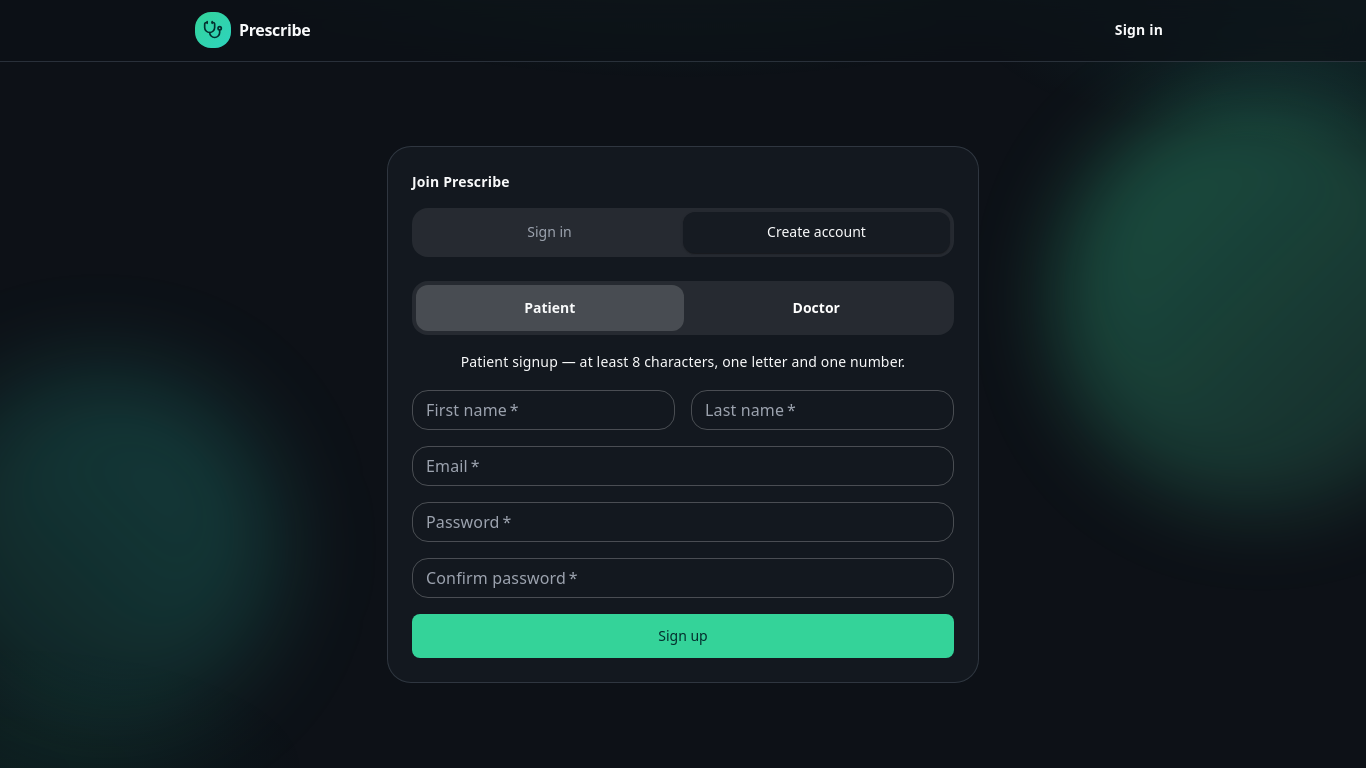
Test case: AuthPage › surfaces backend detail on signup failure
Type "X" into the field with id "landing-signup-first-name".
click(544, 410); type("X")  # box [412,390,675,430]
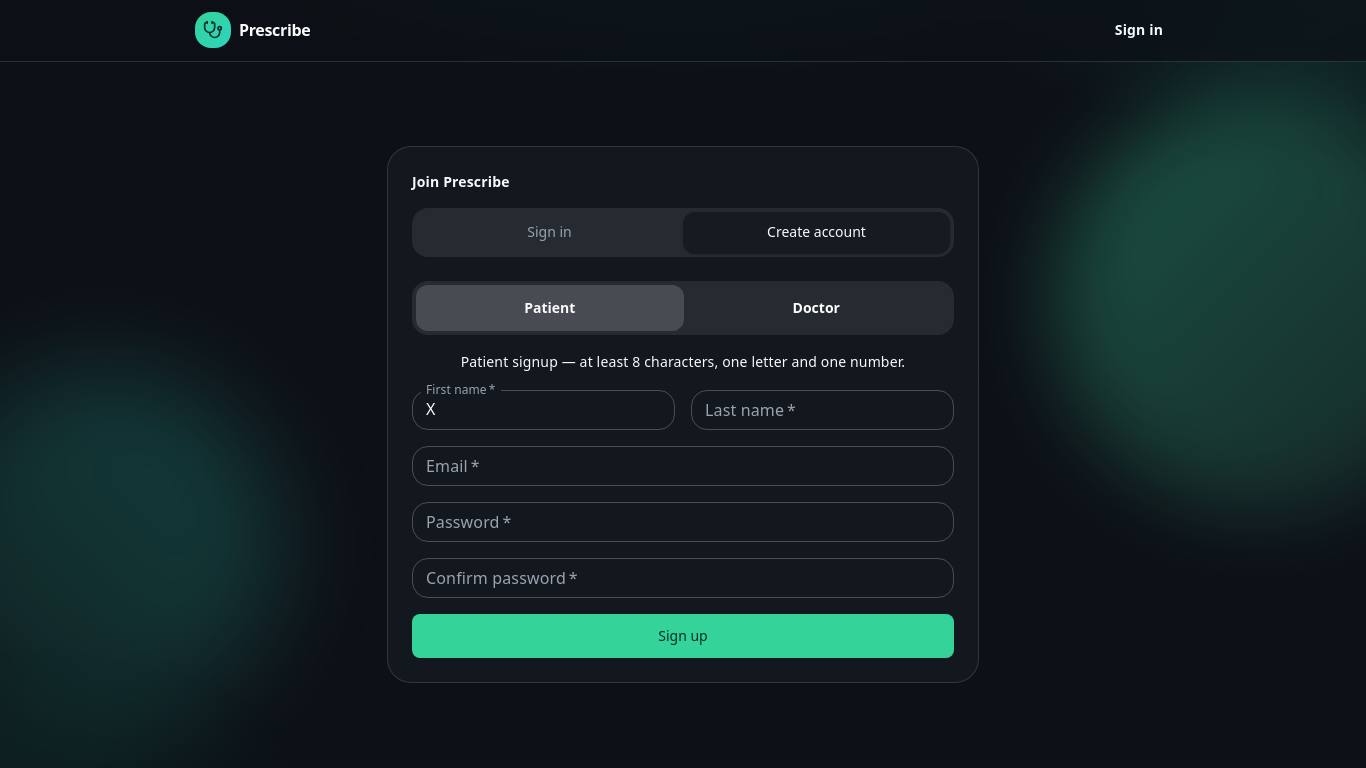
Type "Y" into the field with id "landing-signup-last-name".
click(822, 410); type("Y")  # box [691,390,954,430]
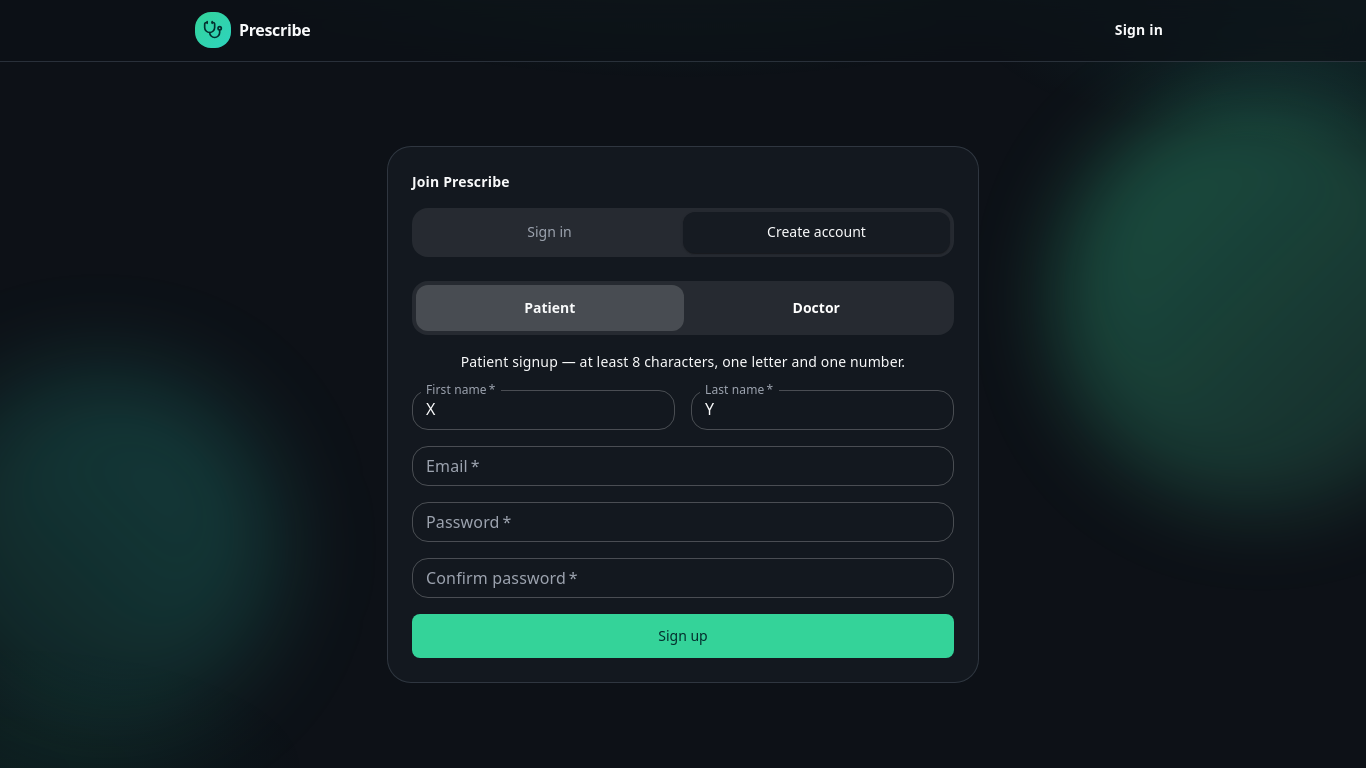
Type "x@example.com" into the field with id "landing-signup-email".
click(683, 466); type("x@example.com")  # box [412,446,954,486]
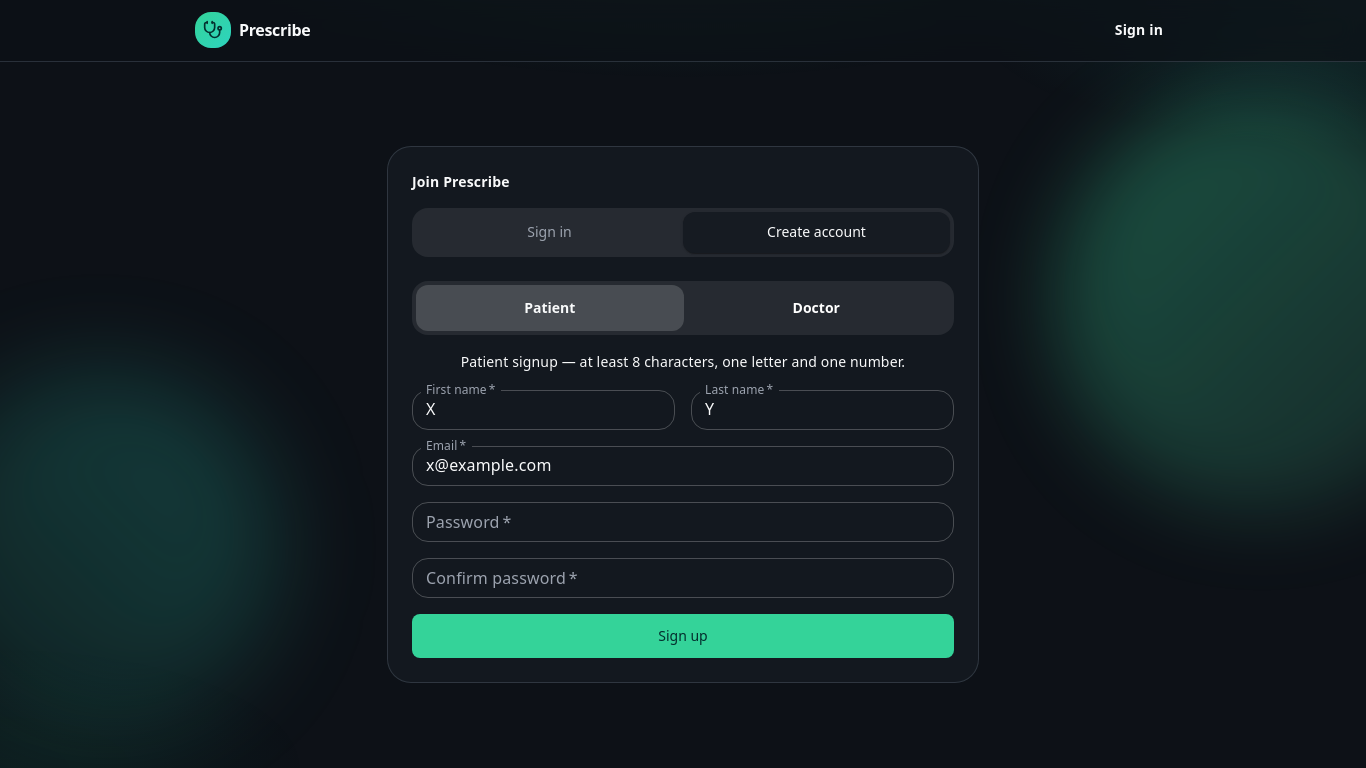
Type "validpassword1" into the password field with id "landing-signup-password".
click(683, 522); type("validpassword1")  # box [412,502,954,542]
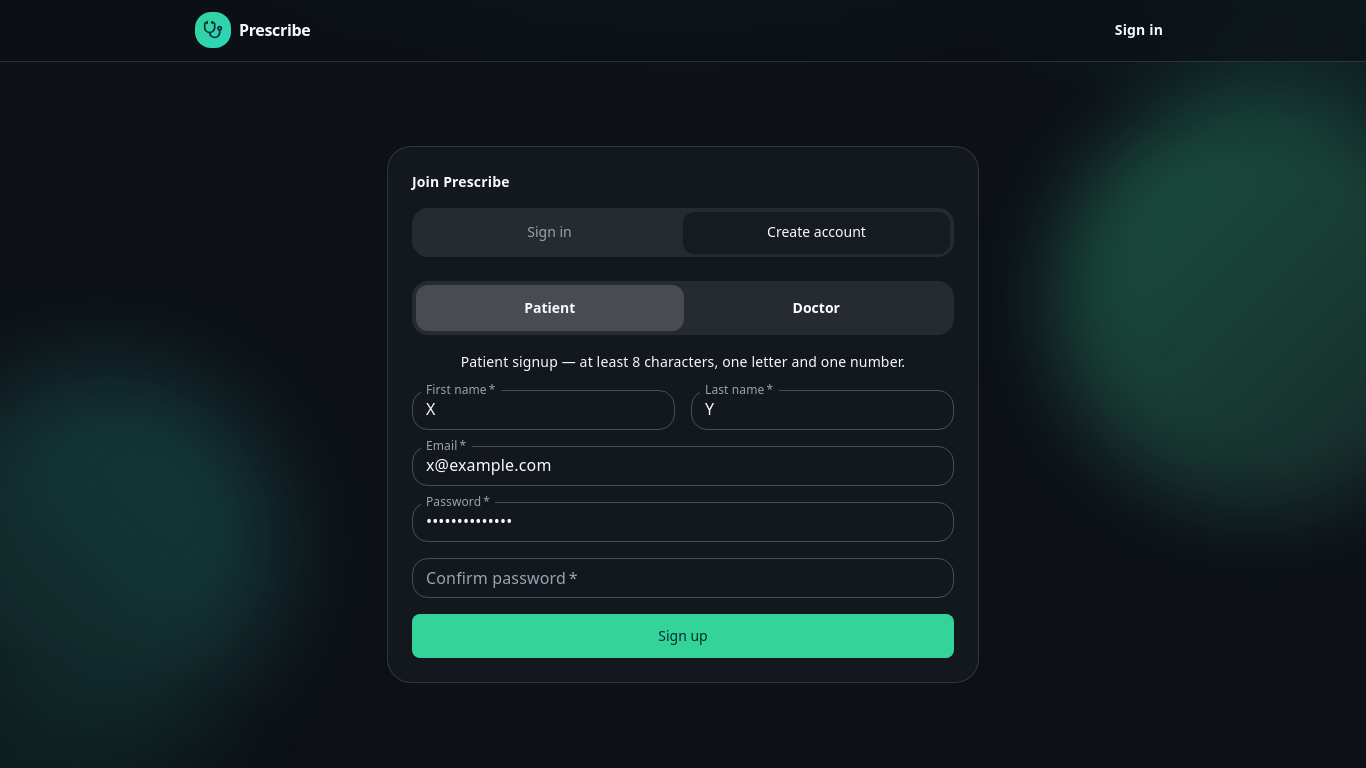
Type "validpassword1" into the password field with id "landing-signup-confirm-password".
click(683, 578); type("validpassword1")  # box [412,558,954,598]
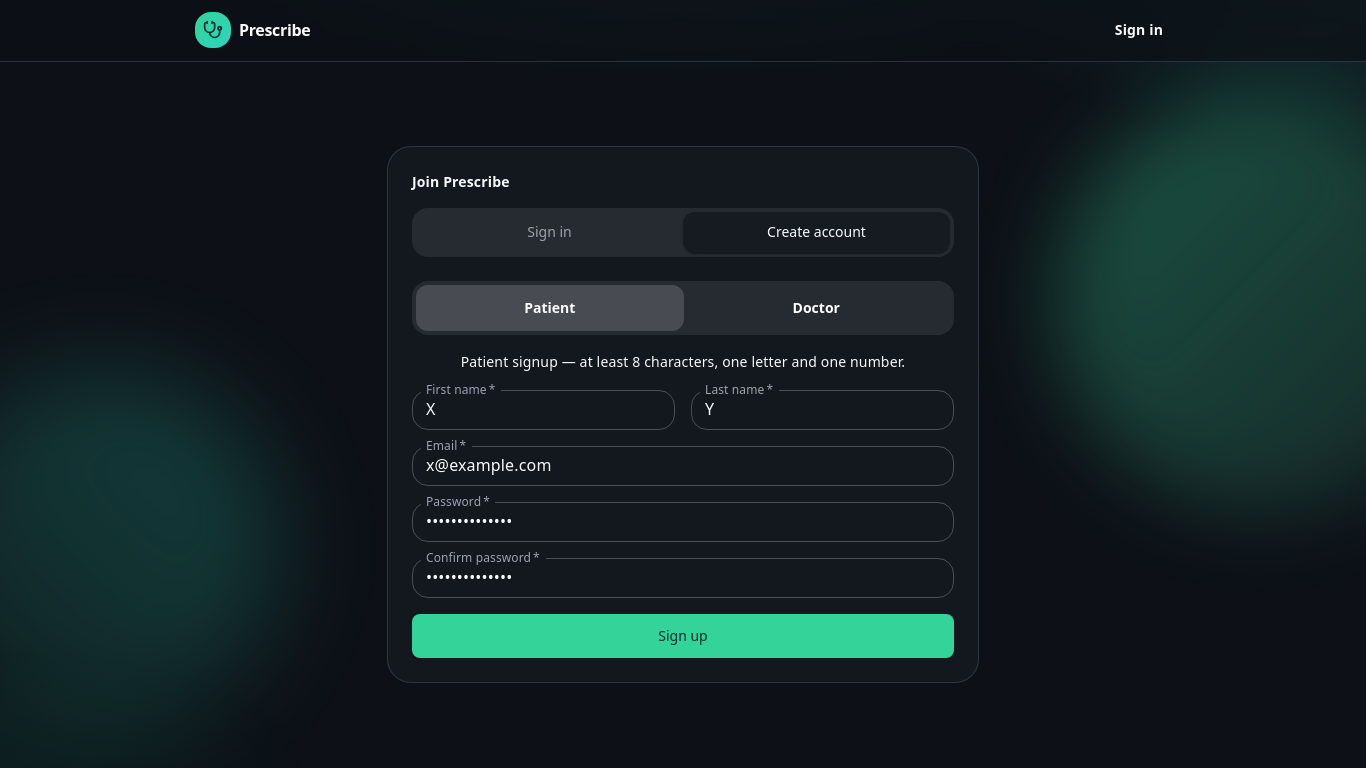
Click the button "Sign up".
click(683, 636)  # box [412,614,954,658]
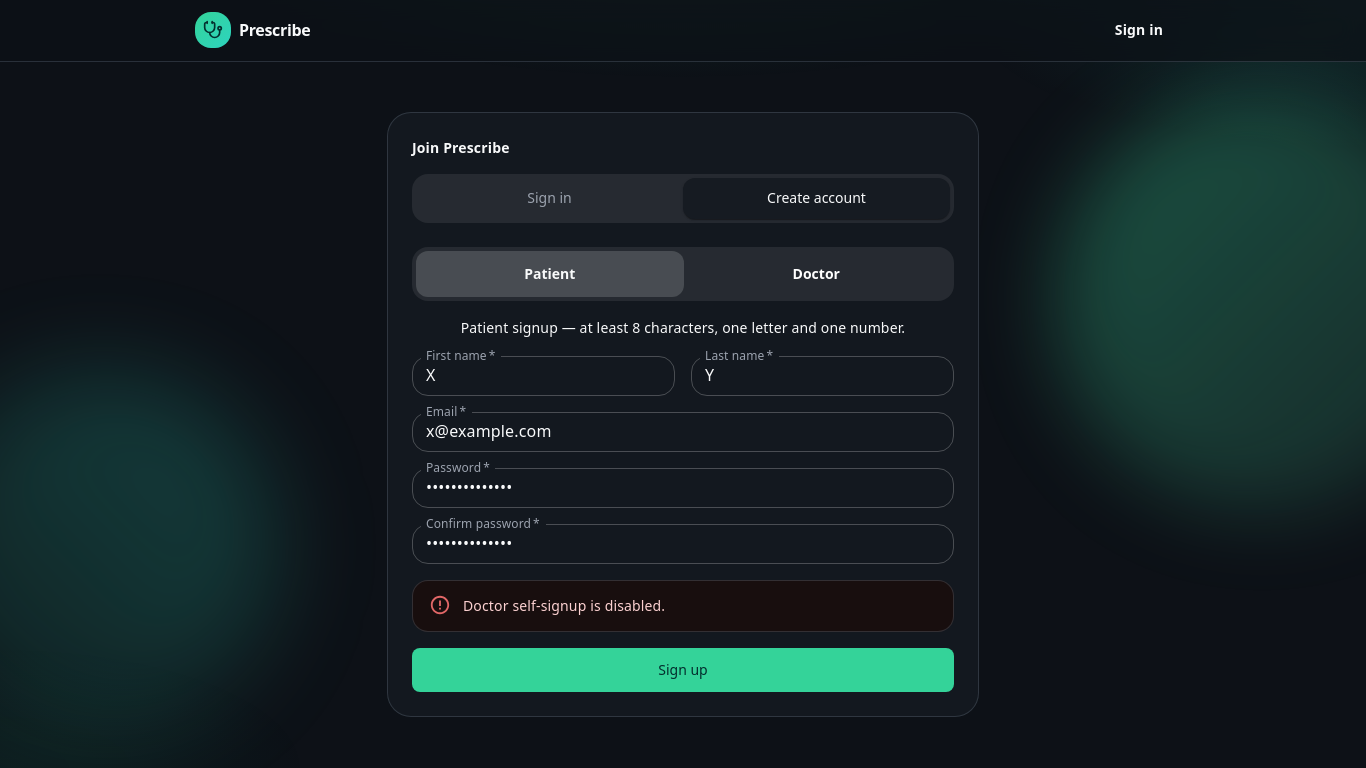
Check: the text "Doctor self-signup is disabled." is shown, box [463,596,665,614]
